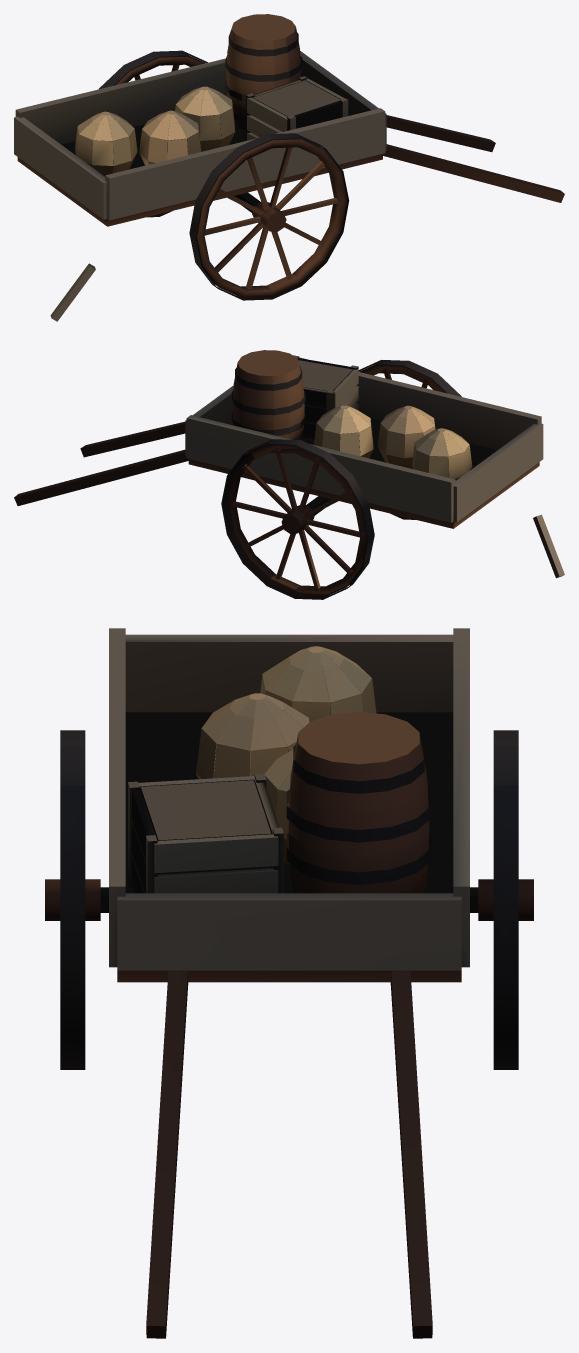
File: carro.glb
3 views of the same model, one above another, from view 1: azimuth 30°, elevation 25°; view 2: azimuth 150°, elevation 25°; view 3: azimuth 270°, elevation 25° (orthographic). The views are drawn at different scales.
Parts seen in each view (by area): view 1: carro_piezas; view 2: carro_piezas; view 3: carro_piezas.
Boxes of the visible parts, bbox=[...] form: carro_piezas: bbox=[14, 14, 564, 321]; carro_piezas: bbox=[14, 350, 564, 599]; carro_piezas: bbox=[45, 628, 533, 1338].
Bounding box in the file's own units: 4.05 × 1.51 × 1.76.
